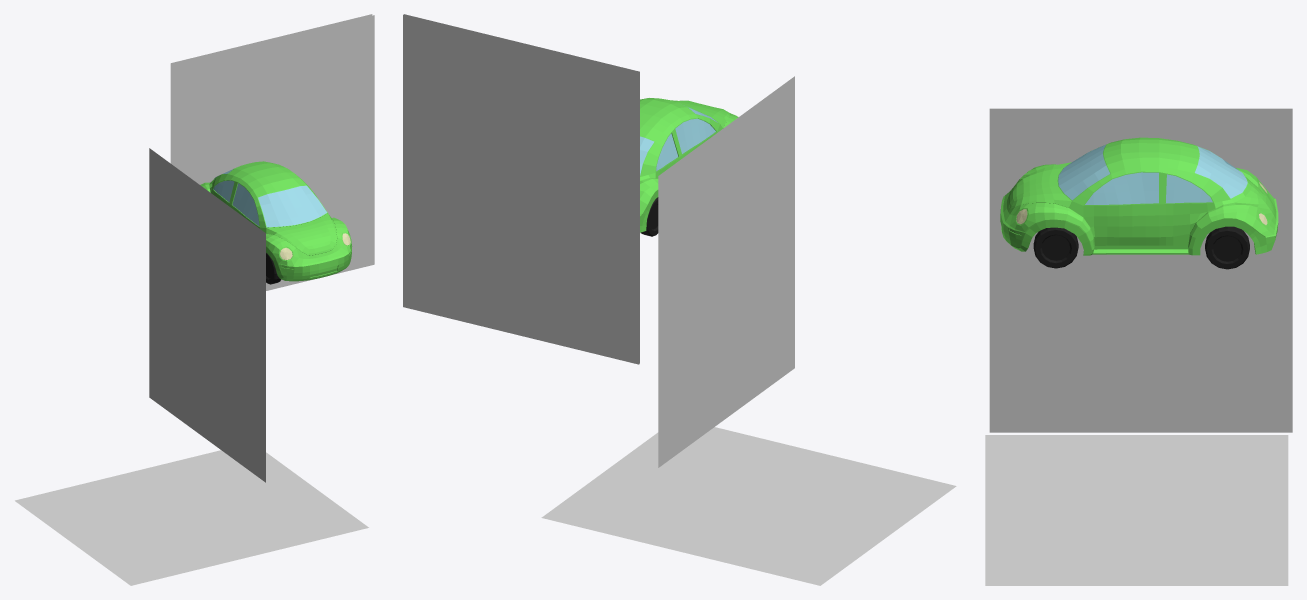
Rendered from low_poly_beetle07_applied.glb.
The picture shows the model from 3 angles, left to right: view 1: azimuth 30°, elevation 25°; view 2: azimuth 150°, elevation 25°; view 3: azimuth 270°, elevation 25°; orthographic projection. The views are drawn at different scales.
Parts seen in each view (by area): view 1: volkswagen-beetle-2005, volkswagen-beetle-2005.002, volkswagen-beetle-2005.003, Beetle, volkswagen-beetle-2005.001; view 2: volkswagen-beetle-2005.001, volkswagen-beetle-2005.002, volkswagen-beetle-2005.003, Beetle, volkswagen-beetle-2005; view 3: volkswagen-beetle-2005.002, volkswagen-beetle-2005.003, Beetle, Cylinder, Cylinder.001.
Part boxes in pixels (x1,y1,x2,y2): volkswagen-beetle-2005: (172, 15, 374, 290); volkswagen-beetle-2005.002: (149, 148, 265, 482); volkswagen-beetle-2005.003: (15, 450, 368, 585); Beetle: (200, 161, 352, 281); volkswagen-beetle-2005.001: (170, 14, 372, 164); volkswagen-beetle-2005.001: (403, 15, 639, 364); volkswagen-beetle-2005.002: (658, 76, 794, 467); volkswagen-beetle-2005.003: (541, 427, 956, 585); Beetle: (640, 98, 738, 232); volkswagen-beetle-2005: (403, 14, 639, 363); volkswagen-beetle-2005.002: (989, 108, 1292, 432); volkswagen-beetle-2005.003: (985, 435, 1288, 585); Beetle: (1000, 137, 1278, 255); Cylinder: (1205, 226, 1249, 269); Cylinder.001: (1033, 227, 1078, 268).
Size of the model in its own units: 1.5 by 1.6 by 0.859.
